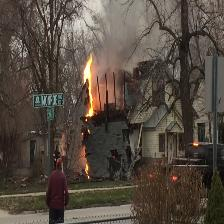fire: (83, 58, 96, 118)
smoke: (107, 3, 148, 62)
